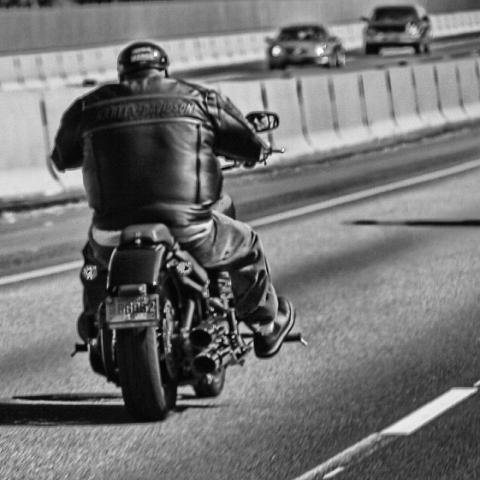car: (265, 25, 345, 68)
motorcycle: (69, 221, 256, 422)
truck: (358, 4, 432, 54), (263, 26, 348, 69)
